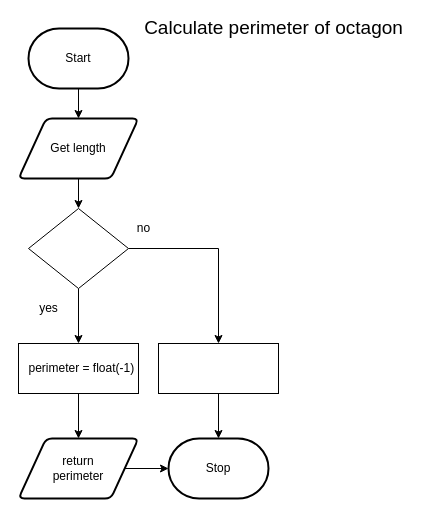
Image size: 425x517. Some labels were removed from this diagram. Here are the shapes that lost their labels. From the top down, the box of each, then its label:
(28, 208, 128, 288): if length < 0:
(158, 342, 278, 394): perimeter = length * 8
